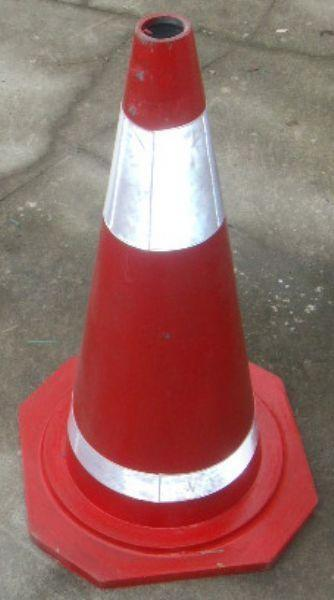cone_barrel: (52, 10, 270, 545)
